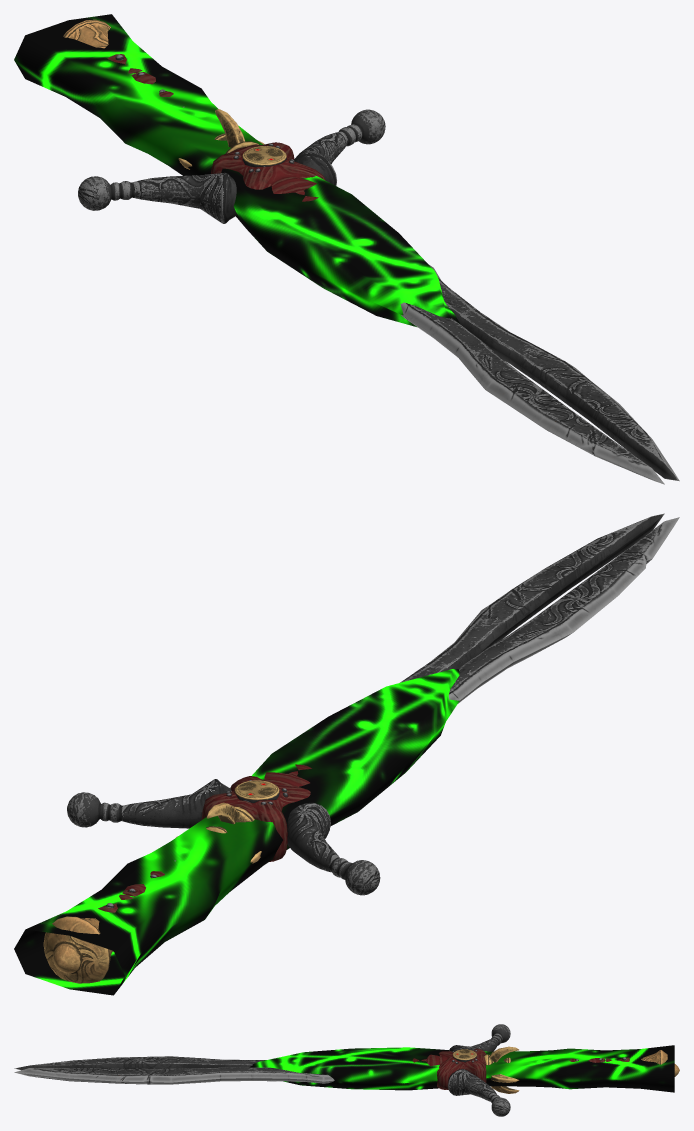
File: Sword.gltf
The picture shows the model from 3 angles, top to bottom: view 1: azimuth 30°, elevation 25°; view 2: azimuth 150°, elevation 25°; view 3: azimuth 270°, elevation 25°; orthographic projection. The views are drawn at different scales.
Parts seen in each view (by area): view 1: Sword; view 2: Sword; view 3: Sword.
Boxes of the visible parts, box(x1,y1,x2,y2) form: Sword: box(14, 14, 679, 484); Sword: box(14, 513, 679, 995); Sword: box(14, 1024, 679, 1116).
Size of the model in its own units: 0.3874 by 0.1034 by 1.34.
2 materials, 2 textured.
